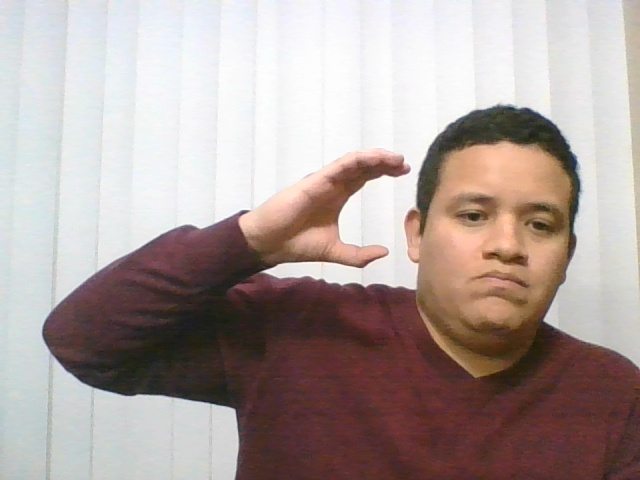Cousin: (229, 133, 421, 292)
